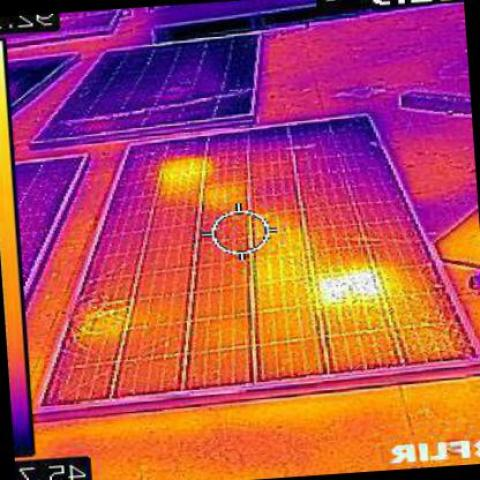fault: (320, 272, 383, 301)
